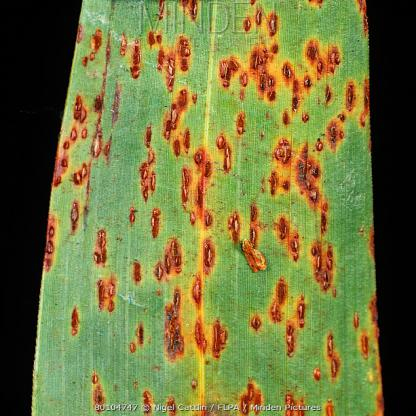corn rust leaf: (5, 1, 415, 415)
